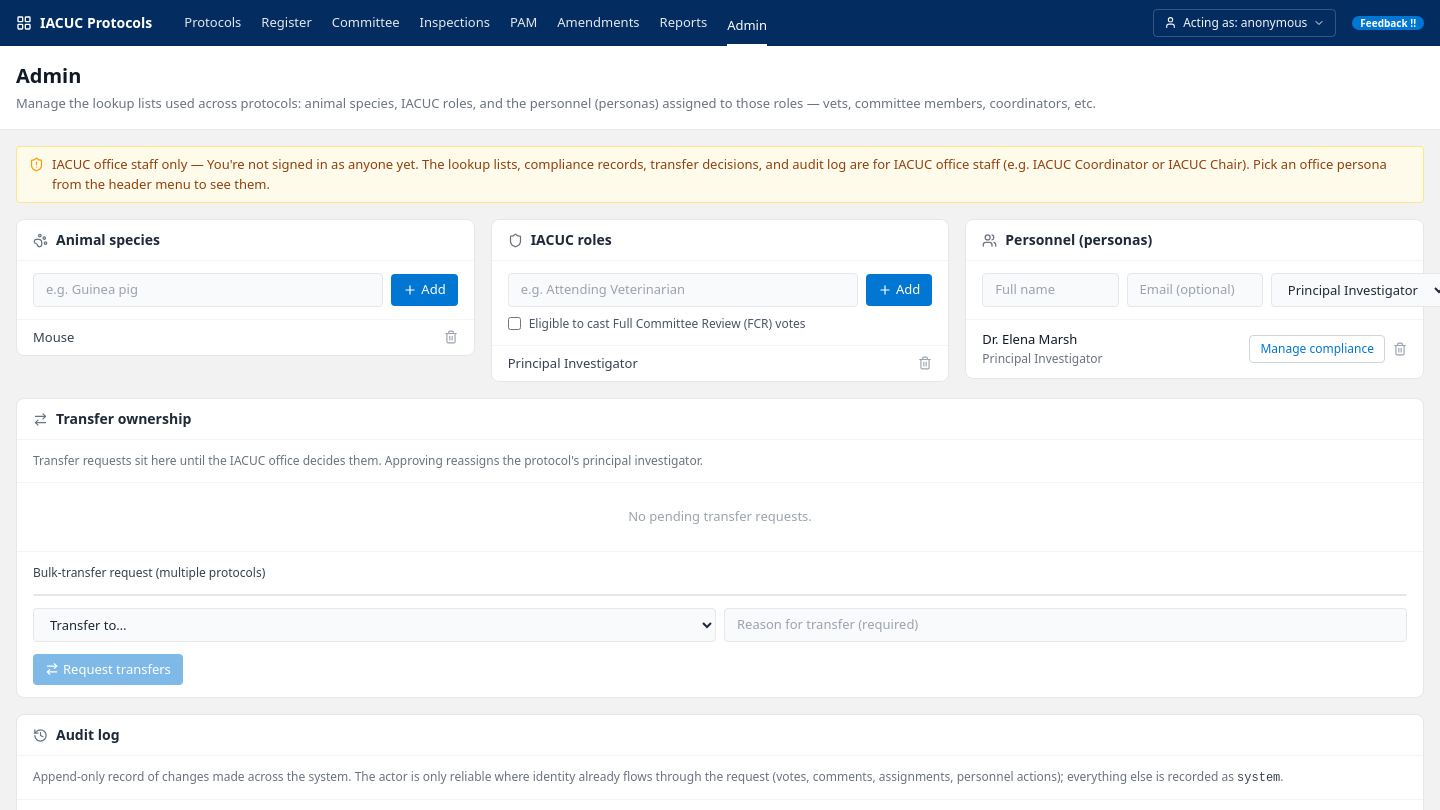
AdminPage — personnel compliance › opening the compliance modal loads training and OHSP data
Expected: the text "Dr. Elena Marsh" is shown, [982,330,1077,348]
What coordinates should you click on to do the following:
click the button "Manage compliance"
I would click on:
 (1317, 349)
Its box is [1250,335,1385,363].
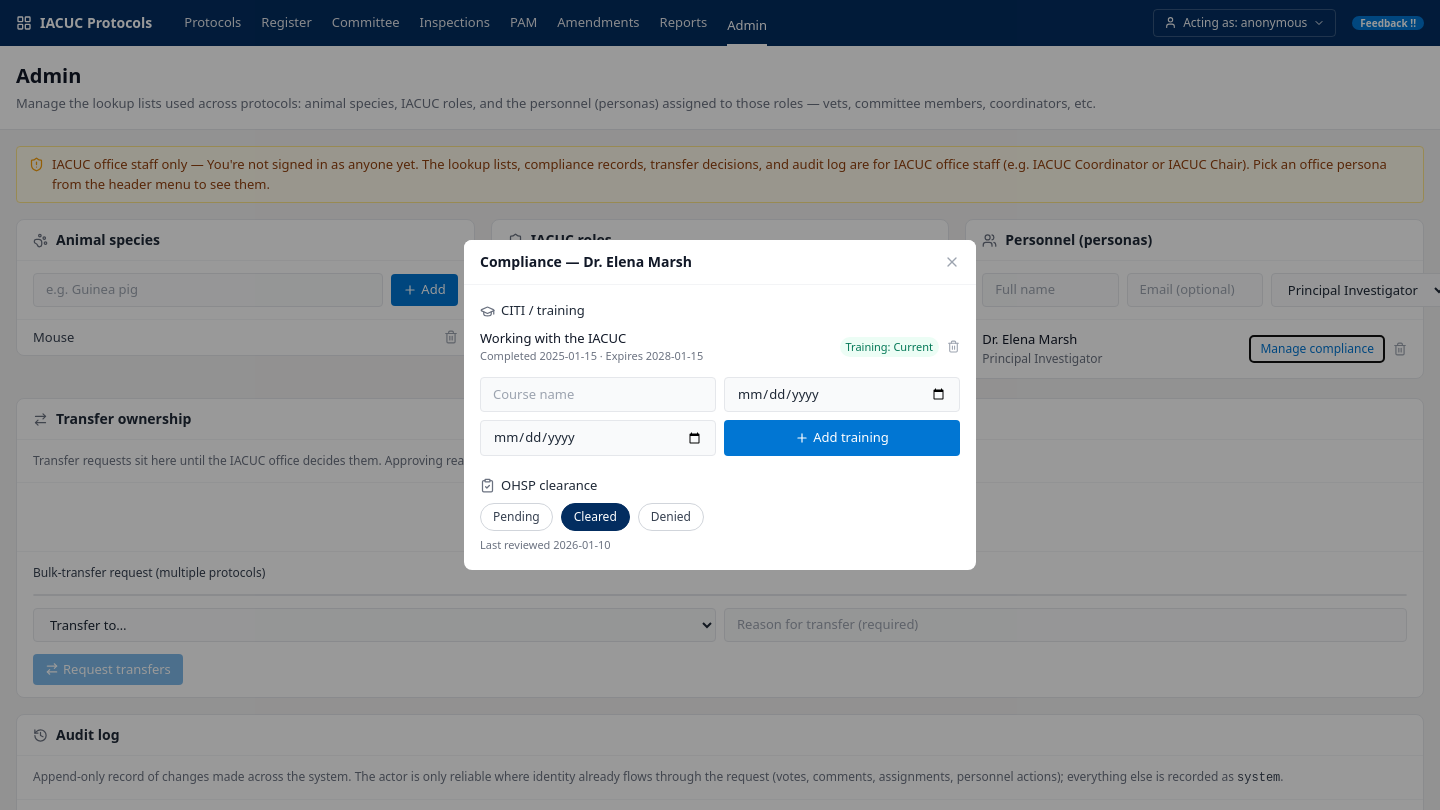
Now the heading "Compliance — Dr. Elena Marsh" is shown, box [480,252,692,272]
Now the text "Working with the IACUC" is shown, box [480,329,626,347]
Now the text "Last reviewed 2026-01-10" is shown, box [480,537,611,552]
